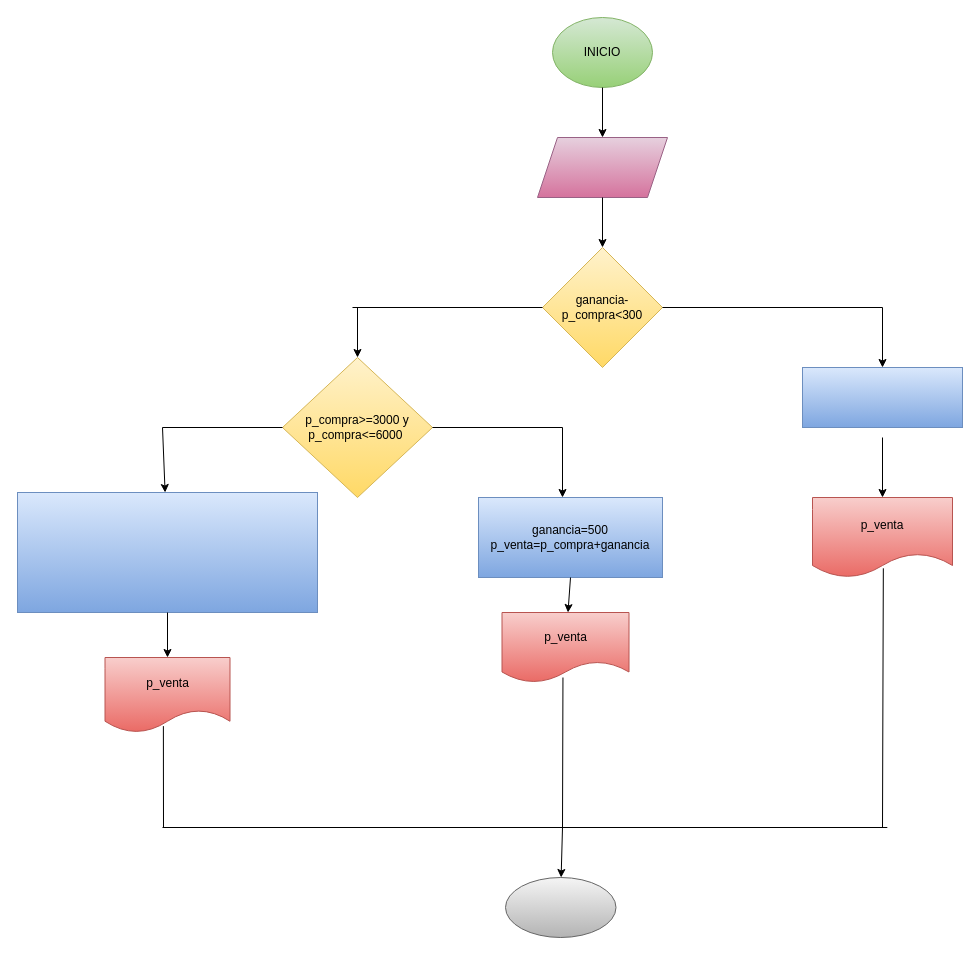
Some shapes in this 980 by 955 pixel diagram are drawn without their labels. Here are the shapes that lost their labels. From the top down, the centre of each, then its label:
the point at 602,167: p_compra
the point at 882,397: ganancia p_venta p_compra+ganacia
the point at 167,552: p_compra>6000,ganancia(p_p_compra*0.25) p_venta-p_compra+ganacia
the point at 560,907: FIN
